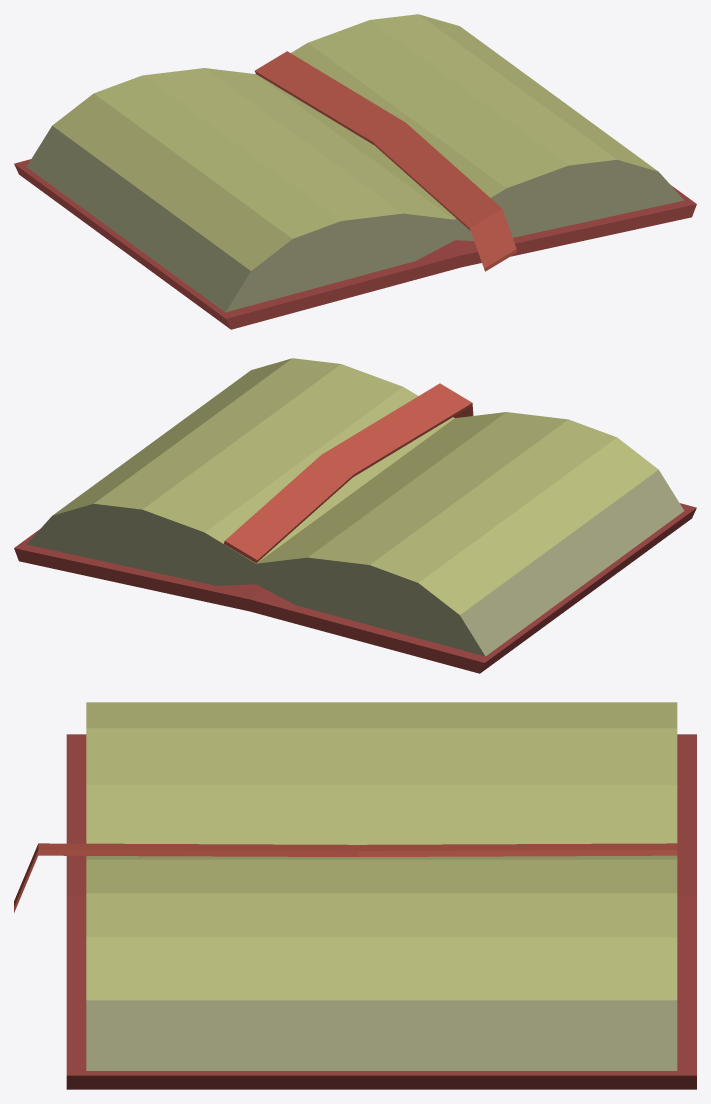
The model's file is Book_3_Red.fbx.
3 views of the same model, one above another, from view 1: azimuth 30°, elevation 25°; view 2: azimuth 150°, elevation 25°; view 3: azimuth 270°, elevation 25° (orthographic). The views are drawn at different scales.
Parts seen in each view (by area): view 1: Book_3_Red_Part_2, Book_3_Red_Part_1, Book_3_Red_Part_4, Book_3_Red_Part_3; view 2: Book_3_Red_Part_2, Book_3_Red_Part_1, Book_3_Red_Part_3, Book_3_Red_Part_4; view 3: Book_3_Red_Part_2, Book_3_Red_Part_1, Book_3_Red_Part_3, Book_3_Red_Part_4.
Boxes of the visible parts, x1,y1,x2,y2 form: Book_3_Red_Part_2: [52, 14, 657, 270]; Book_3_Red_Part_1: [26, 126, 684, 312]; Book_3_Red_Part_4: [255, 51, 517, 271]; Book_3_Red_Part_3: [14, 159, 696, 329]; Book_3_Red_Part_2: [53, 358, 658, 614]; Book_3_Red_Part_1: [26, 470, 684, 656]; Book_3_Red_Part_3: [14, 503, 696, 673]; Book_3_Red_Part_4: [224, 383, 473, 563]; Book_3_Red_Part_2: [86, 702, 677, 1000]; Book_3_Red_Part_1: [86, 1000, 677, 1070]; Book_3_Red_Part_3: [66, 734, 696, 1089]; Book_3_Red_Part_4: [14, 843, 677, 912].
Size of the model in its own units: 41 by 6.27 by 34.68.
